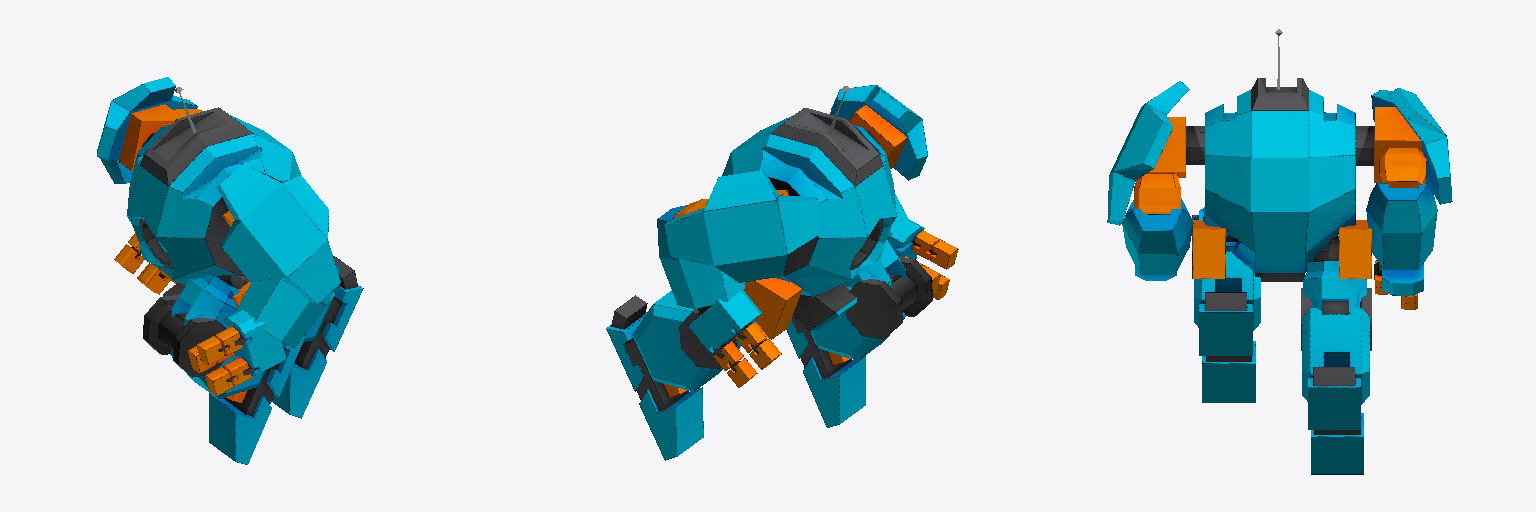
3 renders of one model, left to right at view 1: azimuth 30°, elevation 25°; view 2: azimuth 150°, elevation 25°; view 3: azimuth 270°, elevation 25°, orthographic.
Parts seen in each view (by area): view 1: Plane001, Object006, Object002, Object008, Object014, Object011, Object013, Object007, Object012, Object004; view 2: Plane001, Object002, Object013, Object011, Object010, Object006, Object004, Object014, Object003, Object008, Object012; view 3: Plane001, Object006, Object002, Object014, Object011, Object010, Object003, Object007, Object009, Object013, Object004, Object005 (+1 smaller).
Boxes of the visible parts, box(x1,y1,x2,y2) form: Plane001: box(127, 107, 300, 307); Object006: box(217, 163, 340, 303); Object002: box(97, 77, 202, 183); Object008: box(188, 310, 285, 395); Object014: box(209, 334, 306, 464); Object011: box(272, 256, 363, 418); Object013: box(143, 294, 265, 398); Object007: box(236, 266, 340, 347); Object012: box(171, 274, 247, 327); Object004: box(114, 233, 170, 294); Plane001: box(722, 108, 896, 339); Object002: box(664, 170, 823, 282); Object013: box(810, 256, 932, 360); Object011: box(606, 295, 703, 460); Object010: box(632, 290, 740, 391); Object006: box(830, 85, 927, 180); Object004: box(688, 290, 781, 387); Object014: box(786, 316, 865, 427); Object003: box(657, 205, 745, 308); Object008: box(886, 219, 958, 299); Object012: box(844, 240, 905, 287); Plane001: box(1193, 78, 1371, 281); Object006: box(1107, 81, 1189, 225); Object002: box(1371, 88, 1452, 204); Object014: box(1199, 292, 1255, 402); Object011: box(1308, 367, 1363, 474); Object010: box(1301, 288, 1371, 404); Object003: box(1366, 182, 1437, 269); Object007: box(1122, 198, 1193, 274); Object009: box(1303, 236, 1366, 313); Object013: box(1192, 215, 1260, 330); Object004: box(1374, 260, 1423, 309); Object005: box(1186, 126, 1204, 164).
Size of the model in its own units: 148 by 219 by 182.
1 materials, 1 textured.